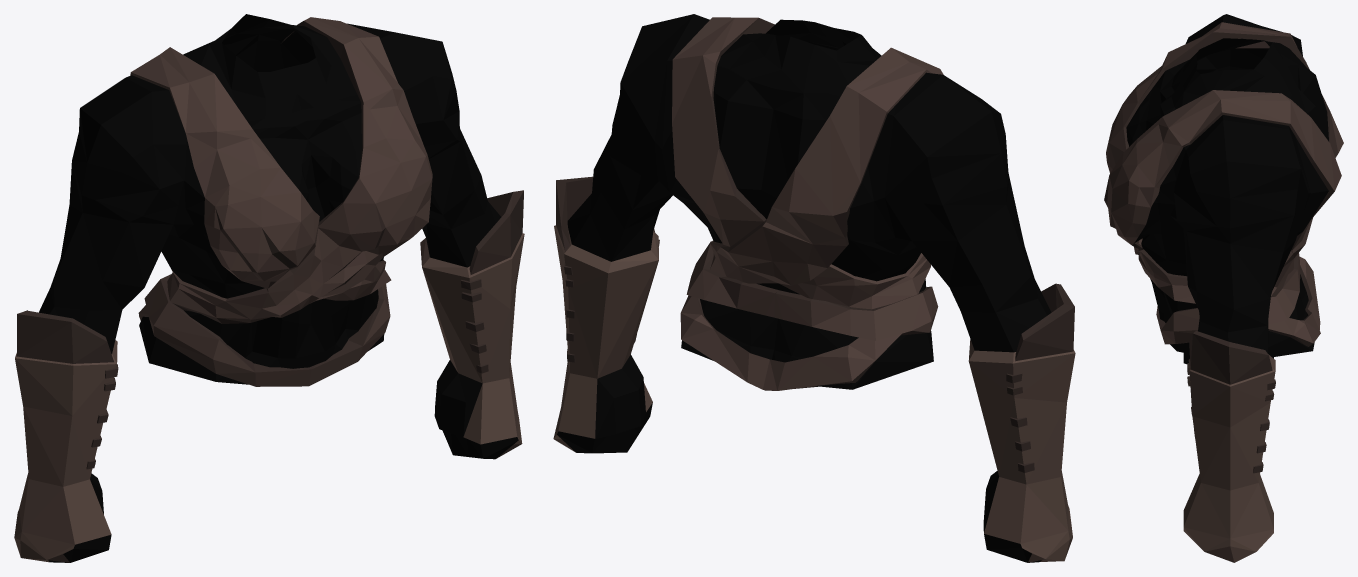
The model's file is FemaleWarriorChest.dae.
3 views of the same model, side by side, from view 1: azimuth 30°, elevation 25°; view 2: azimuth 150°, elevation 25°; view 3: azimuth 270°, elevation 25° (orthographic). The views are drawn at different scales.
Parts seen in each view (by area): view 1: FemaleChest; view 2: FemaleChest; view 3: FemaleChest.
Part boxes in pixels (bbox=[...]): FemaleChest: bbox=[14, 14, 524, 562]; FemaleChest: bbox=[553, 14, 1075, 562]; FemaleChest: bbox=[1104, 14, 1343, 562].
Size of the model in its own units: 5.06 by 2.34 by 4.53.
